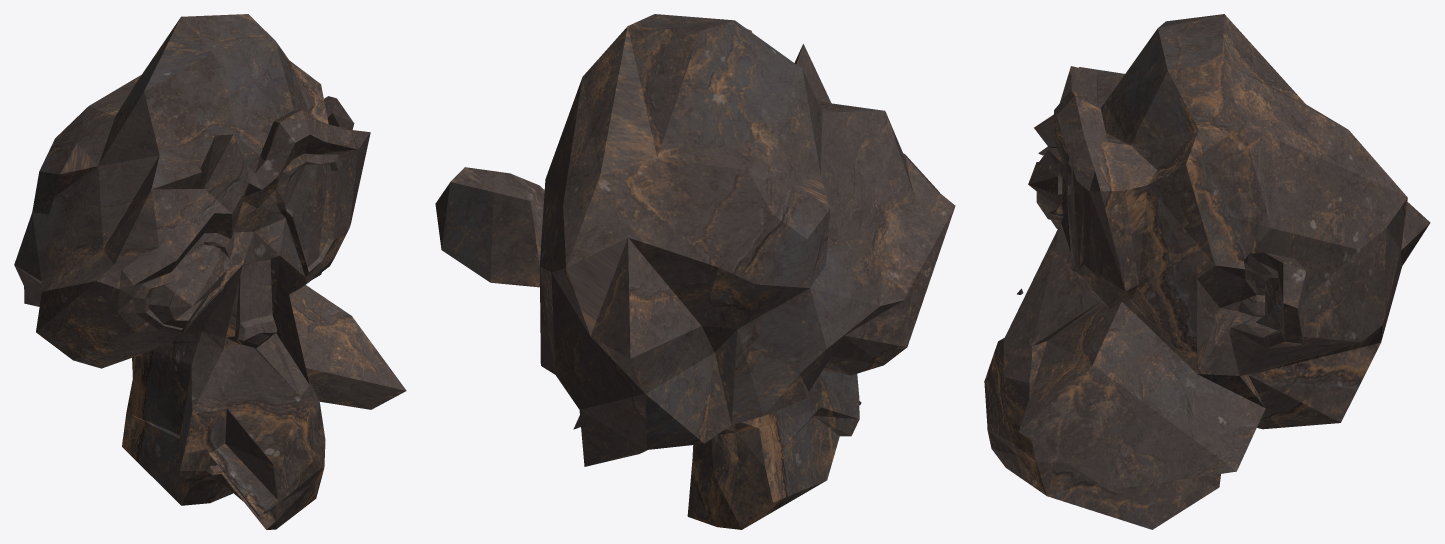
3 renders of one model, left to right at view 1: azimuth 30°, elevation 25°; view 2: azimuth 150°, elevation 25°; view 3: azimuth 270°, elevation 25°, orthographic. The views are drawn at different scales.
Parts seen in each view (by area): view 1: Suzanne; view 2: Suzanne; view 3: Suzanne.
Part boxes in pixels (x1=…): Suzanne: x1=14, y1=14, x2=406, y2=529; Suzanne: x1=435, y1=14, x2=955, y2=529; Suzanne: x1=984, y1=14, x2=1430, y2=529.
Bounding box in the file's own units: 2.48 × 3.02 × 2.46.
